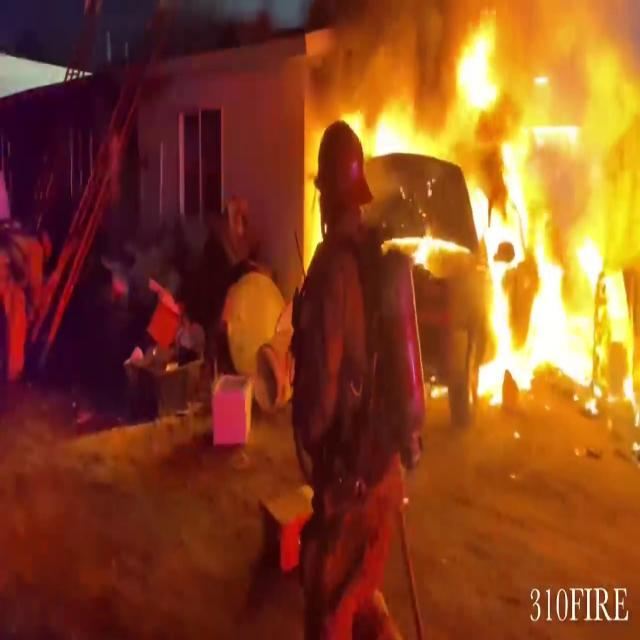Fire: (451, 1, 640, 418)
